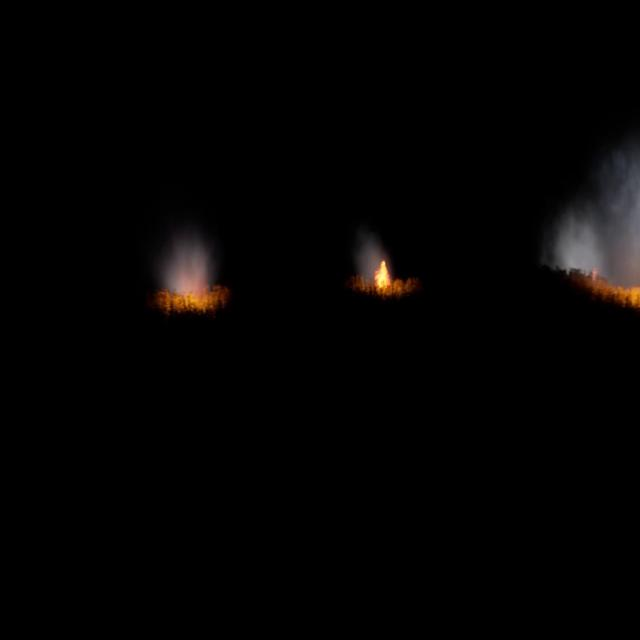fire: (370, 256, 394, 289)
smoke: (545, 144, 639, 285), (158, 235, 216, 300), (358, 238, 392, 294)
